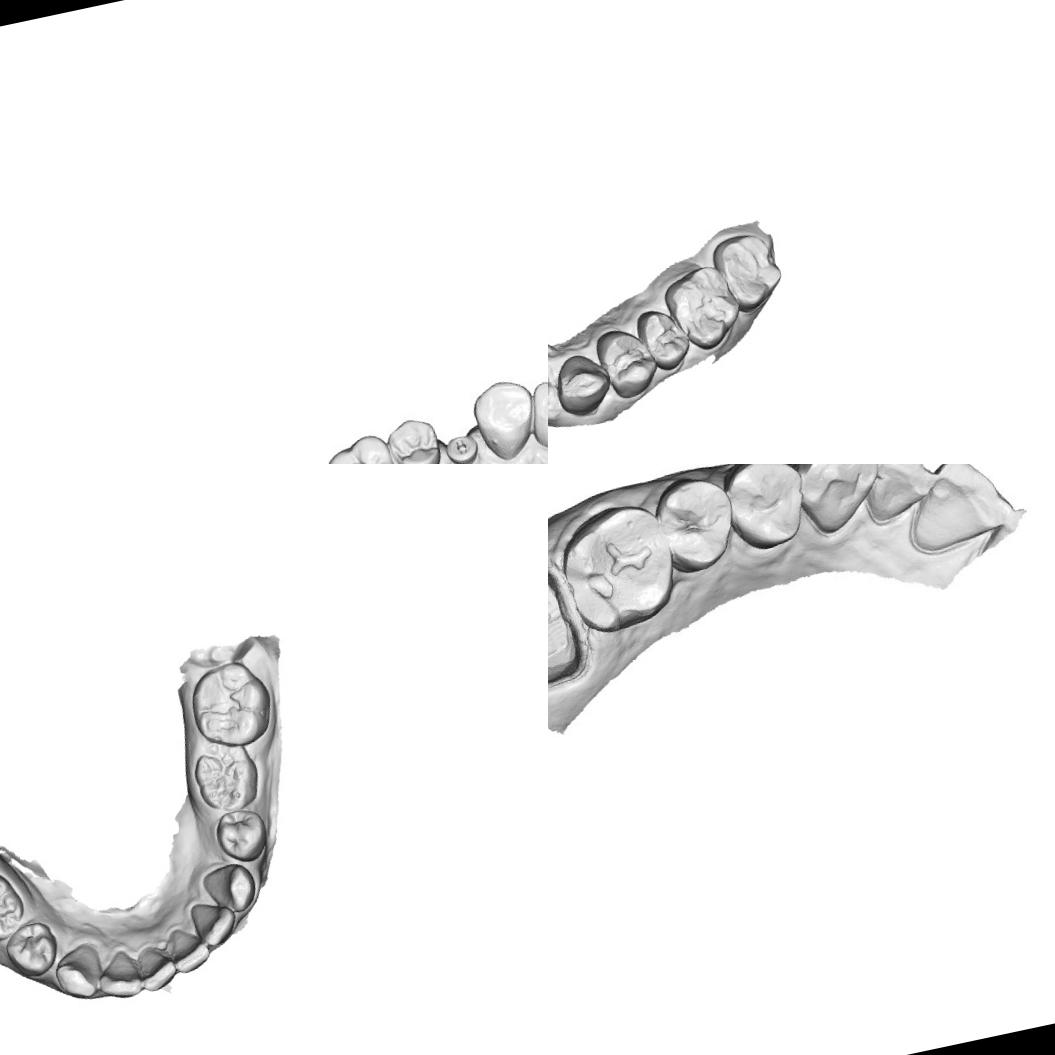canine: (792, 464, 888, 546), (466, 373, 546, 464), (550, 348, 618, 422), (49, 938, 107, 1006), (198, 858, 262, 917)
crown: (548, 550, 595, 699)
implant_minus: (443, 430, 483, 464)
incisor: (902, 464, 1015, 554), (858, 464, 937, 526), (90, 947, 146, 1004), (185, 900, 243, 954), (159, 926, 215, 980), (130, 943, 182, 996), (524, 373, 548, 453)
molar: (550, 498, 688, 636), (182, 653, 280, 756), (658, 256, 751, 358), (708, 226, 792, 316), (185, 738, 266, 819), (315, 429, 409, 464), (0, 862, 30, 949)
premolar: (652, 470, 744, 579), (718, 464, 812, 557), (591, 322, 664, 406), (633, 301, 696, 376), (0, 917, 64, 984), (210, 802, 273, 868), (382, 412, 447, 464)
